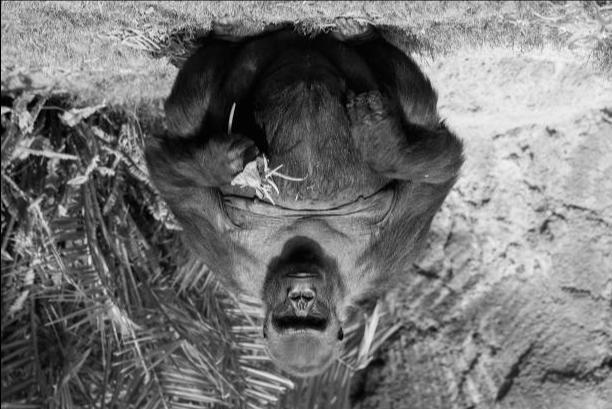gorille_Autres: (101, 12, 495, 392)
